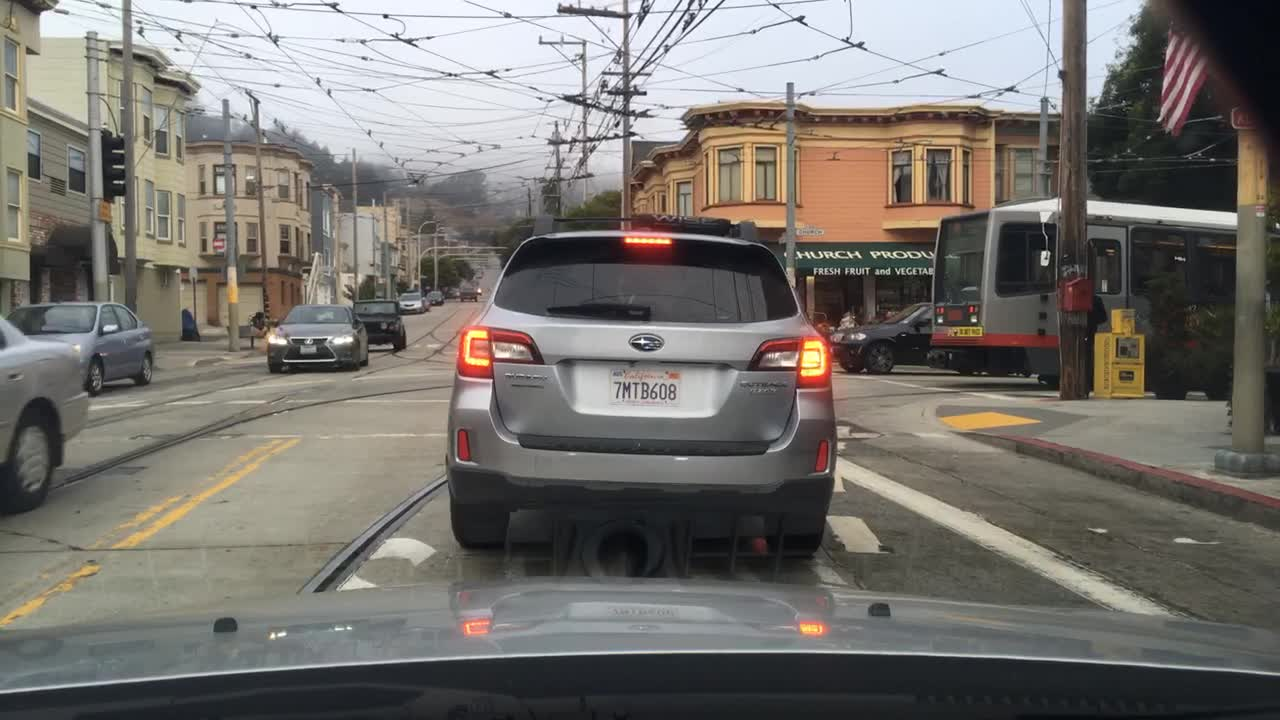bus: (935, 196, 1236, 398)
car: (447, 212, 835, 557), (0, 314, 86, 512), (8, 299, 155, 393), (832, 301, 934, 372), (264, 302, 367, 371), (352, 299, 408, 350), (394, 293, 426, 314), (424, 289, 444, 307), (459, 286, 478, 302), (466, 278, 481, 295), (445, 286, 462, 299), (472, 266, 484, 278)
person: (811, 311, 833, 341), (868, 302, 895, 322), (835, 310, 856, 329)
traffic light: (98, 125, 128, 202)
traffic sign: (1230, 104, 1260, 127), (96, 200, 111, 223), (212, 239, 224, 251)
